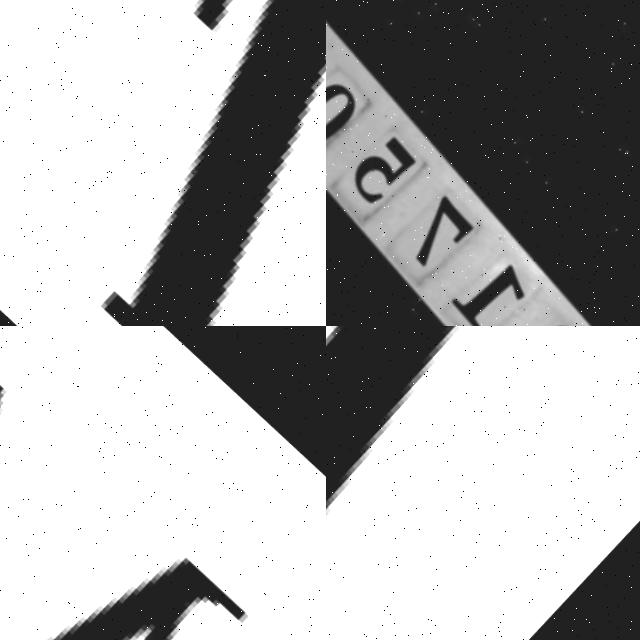0: (326, 49, 390, 165)
1: (448, 228, 560, 326)
5: (341, 110, 443, 216)
7: (390, 166, 505, 284)
8: (500, 285, 622, 326)
L: (326, 326, 640, 640)
M: (0, 326, 322, 640)
T: (0, 0, 326, 326)
